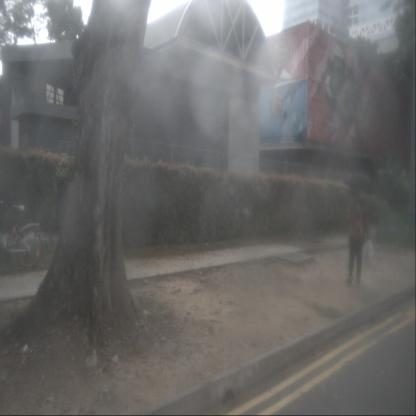human-pedestrian-adult: (342, 172, 375, 286)
vehicle-bicycle: (0, 194, 43, 271)
